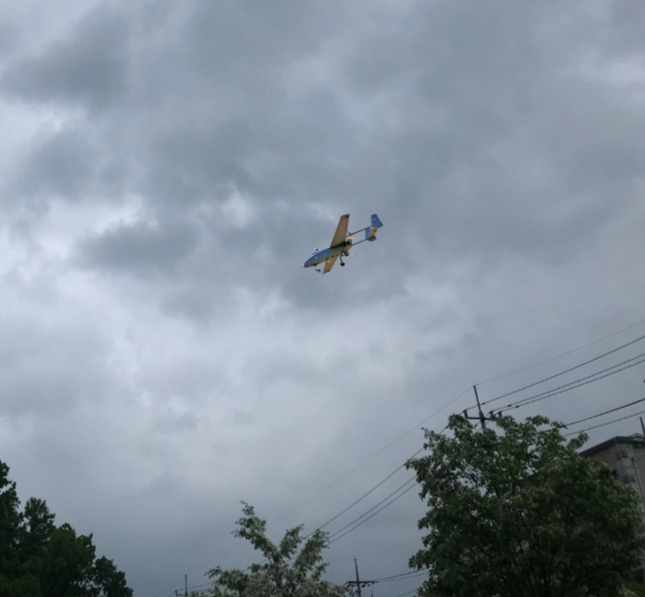military drone: (302, 213, 383, 274)
